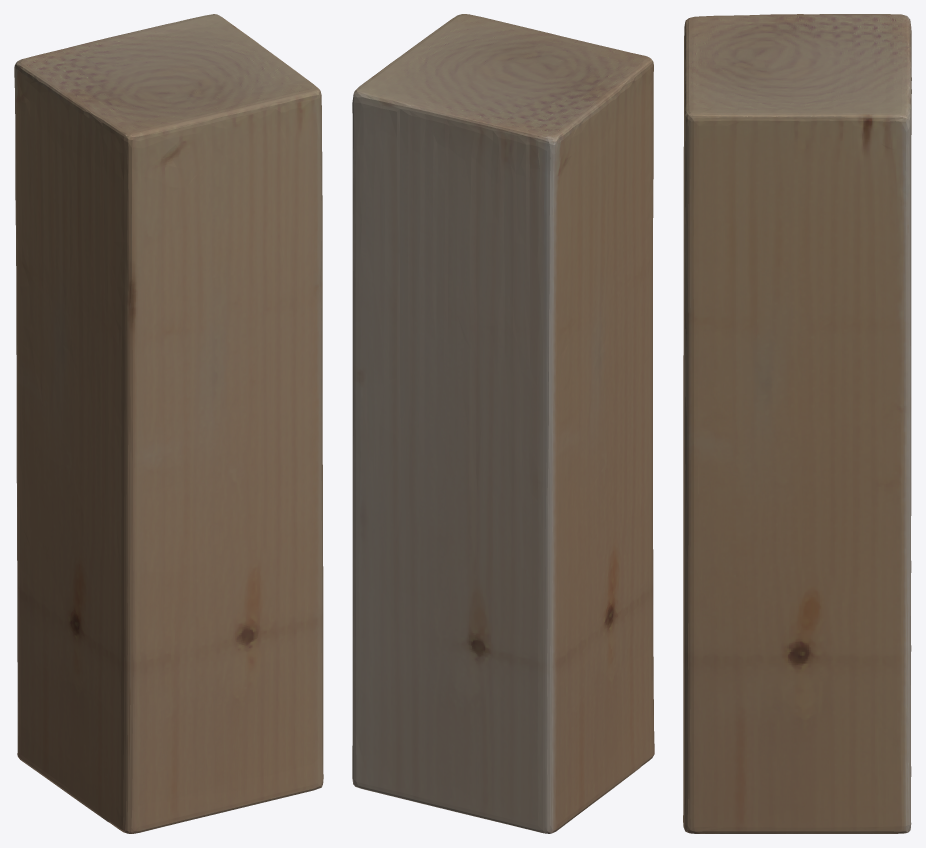
File: sample.glb
The picture shows the model from 3 angles, left to right: view 1: azimuth 30°, elevation 25°; view 2: azimuth 150°, elevation 25°; view 3: azimuth 270°, elevation 25°; orthographic projection. The views are drawn at different scales.
Parts seen in each view (by area): view 1: world; view 2: world; view 3: world.
Boxes of the visible parts, left/top/right/bottom form: world: left=14, top=14, right=323, bottom=833; world: left=352, top=14, right=654, bottom=833; world: left=683, top=14, right=911, bottom=833.
Bounding box in the file's own units: 0.2009 × 0.6537 × 0.1879.
1 material, 1 textured.
